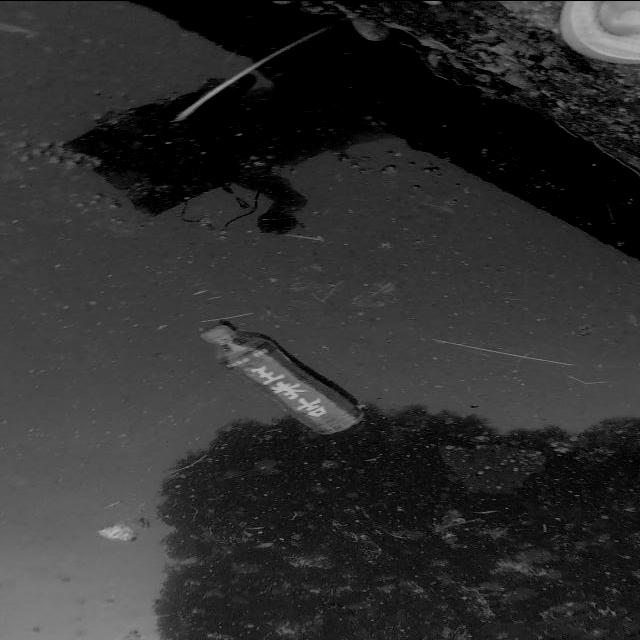bottle: (188, 312, 374, 448)
